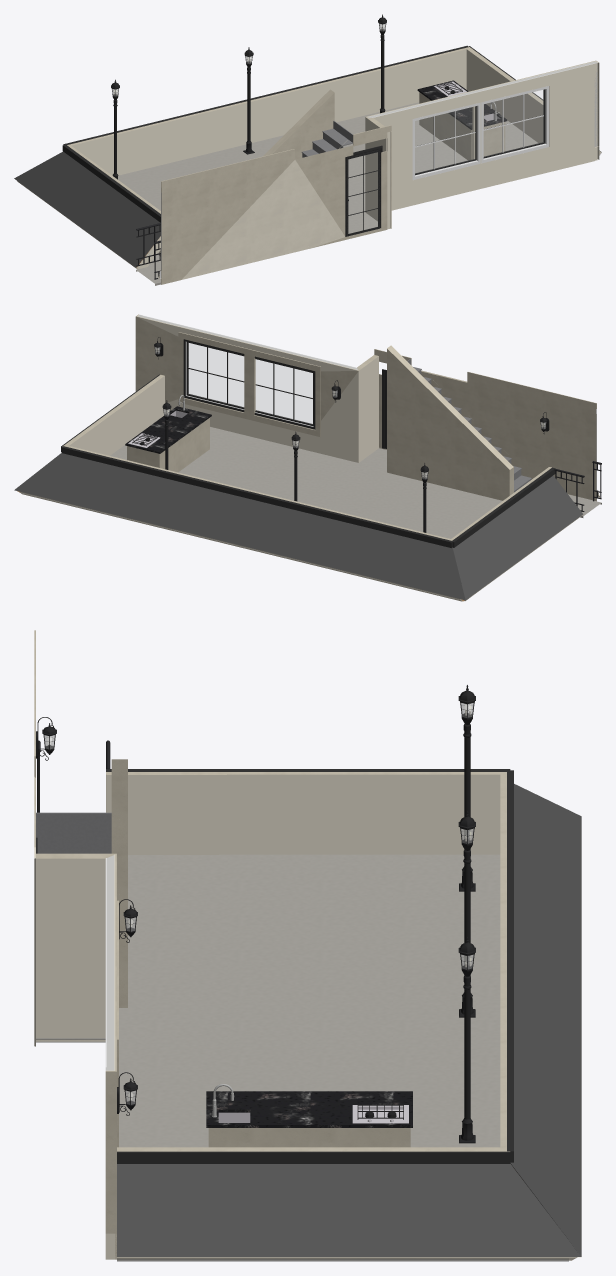
Rendered from rear-deck-987cdfde19c1.glb.
3 views of the same model, one above another, from view 1: azimuth 30°, elevation 25°; view 2: azimuth 150°, elevation 25°; view 3: azimuth 270°, elevation 25° (orthographic). The views are drawn at different scales.
Parts seen in each view (by area): view 1: rear-deck-bd62734a7bc60eb7, rear-deck-32021a86c784f0e0, rear-deck-245f595ae2832e16, rear-deck-ded88bd99590d377, rear-deck-36ed5266b1bc40cd, rear-deck-85ede138eeba504d, rear-deck-cdd3b97a7e9637be, rear-deck-dd55bfb54febbe8b, rear-deck-b5f10ab9081c9955, rear-deck-7511cdbc362aca5e, rear-deck-6b027cd2e6bc0d64, rear-deck-09f90213aa0a4493 (+4 smaller); view 2: rear-deck-5febae1537653d02, rear-deck-ded88bd99590d377, rear-deck-bd62734a7bc60eb7, rear-deck-7511cdbc362aca5e, rear-deck-245f595ae2832e16, rear-deck-36ed5266b1bc40cd, rear-deck-cdd3b97a7e9637be, rear-deck-85ede138eeba504d, rear-deck-dd55bfb54febbe8b, rear-deck-d7a70b5818f54477, rear-deck-6b027cd2e6bc0d64, rear-deck-b5f10ab9081c9955 (+7 smaller); view 3: rear-deck-ded88bd99590d377, rear-deck-0e7e1de83ff8e24c, rear-deck-18b8f93424e26a44, rear-deck-5febae1537653d02, rear-deck-6b027cd2e6bc0d64, rear-deck-385241de3d752b47, rear-deck-5e5272df00660e4c, rear-deck-b5f10ab9081c9955, rear-deck-7511cdbc362aca5e, rear-deck-245f595ae2832e16, rear-deck-d7a70b5818f54477, rear-deck-32021a86c784f0e0 (+10 smaller).
Boxes of the visible parts, bbox=[...] form: rear-deck-bd62734a7bc60eb7: bbox=[161, 125, 391, 284]; rear-deck-32021a86c784f0e0: bbox=[67, 47, 467, 175]; rear-deck-245f595ae2832e16: bbox=[365, 60, 597, 212]; rear-deck-ded88bd99590d377: bbox=[118, 102, 538, 282]; rear-deck-36ed5266b1bc40cd: bbox=[14, 151, 160, 267]; rear-deck-85ede138eeba504d: bbox=[412, 102, 480, 179]; rear-deck-cdd3b97a7e9637be: bbox=[481, 86, 549, 163]; rear-deck-dd55bfb54febbe8b: bbox=[466, 47, 543, 142]; rear-deck-b5f10ab9081c9955: bbox=[419, 92, 505, 160]; rear-deck-7511cdbc362aca5e: bbox=[263, 89, 334, 159]; rear-deck-6b027cd2e6bc0d64: bbox=[365, 117, 390, 229]; rear-deck-09f90213aa0a4493: bbox=[345, 145, 382, 236]; rear-deck-5febae1537653d02: bbox=[14, 453, 465, 600]; rear-deck-ded88bd99590d377: bbox=[110, 427, 596, 538]; rear-deck-bd62734a7bc60eb7: bbox=[374, 349, 596, 501]; rear-deck-7511cdbc362aca5e: bbox=[387, 345, 513, 500]; rear-deck-245f595ae2832e16: bbox=[135, 315, 359, 462]; rear-deck-36ed5266b1bc40cd: bbox=[453, 475, 582, 599]; rear-deck-cdd3b97a7e9637be: bbox=[183, 339, 244, 412]; rear-deck-85ede138eeba504d: bbox=[254, 356, 315, 429]; rear-deck-dd55bfb54febbe8b: bbox=[62, 374, 164, 455]; rear-deck-d7a70b5818f54477: bbox=[61, 446, 452, 548]; rear-deck-6b027cd2e6bc0d64: bbox=[357, 355, 378, 462]; rear-deck-b5f10ab9081c9955: bbox=[127, 418, 209, 472]; rear-deck-ded88bd99590d377: bbox=[36, 854, 500, 1147]; rear-deck-0e7e1de83ff8e24c: bbox=[117, 1164, 581, 1257]; rear-deck-18b8f93424e26a44: bbox=[106, 772, 505, 854]; rear-deck-5febae1537653d02: bbox=[510, 784, 581, 1256]; rear-deck-6b027cd2e6bc0d64: bbox=[36, 853, 114, 1037]; rear-deck-385241de3d752b47: bbox=[206, 1091, 412, 1127]; rear-deck-5e5272df00660e4c: bbox=[117, 1151, 510, 1163]; rear-deck-b5f10ab9081c9955: bbox=[208, 1128, 410, 1147]; rear-deck-7511cdbc362aca5e: bbox=[111, 759, 127, 1007]; rear-deck-245f595ae2832e16: bbox=[105, 853, 116, 1259]; rear-deck-d7a70b5818f54477: bbox=[507, 770, 513, 1162]; rear-deck-32021a86c784f0e0: bbox=[500, 772, 506, 1149].
Bounding box in the file's own units: 12.61 × 3.37 × 6.62.
Materials: 29 (5 with a texture image).
